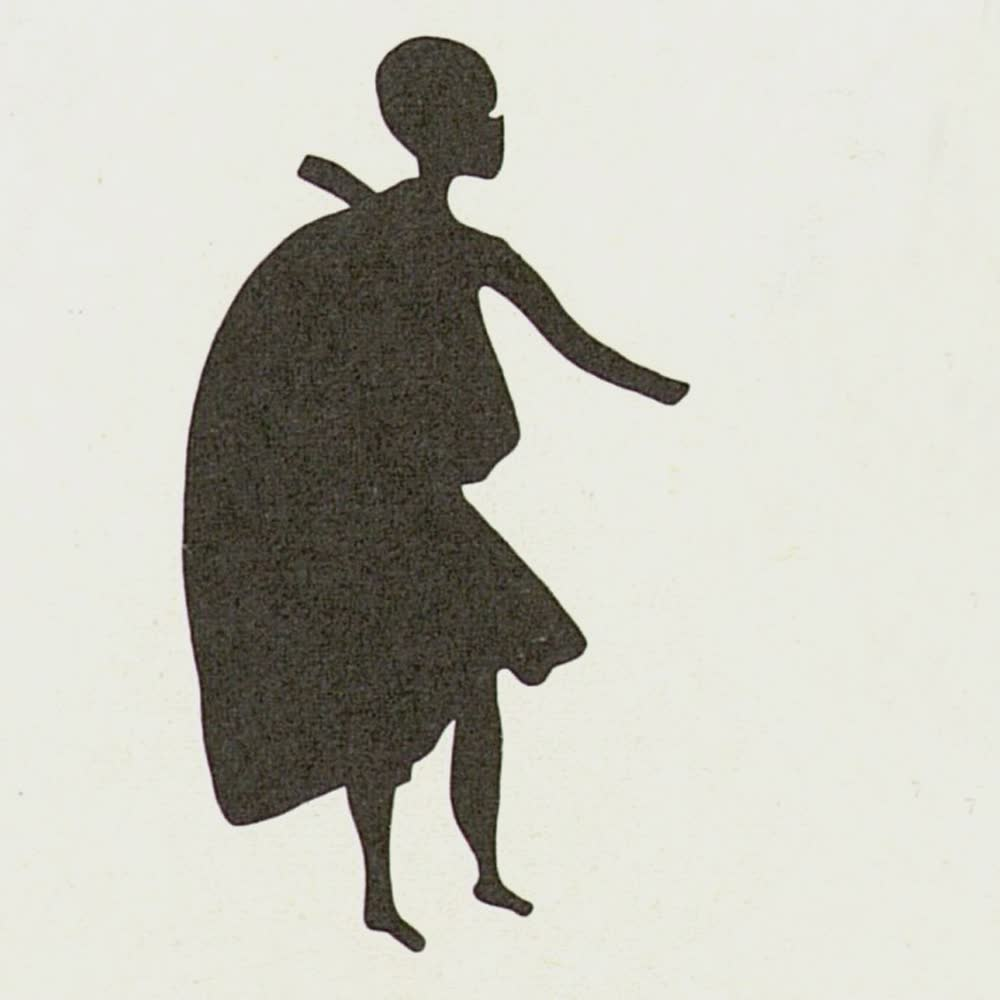woman: (181, 39, 695, 954)
